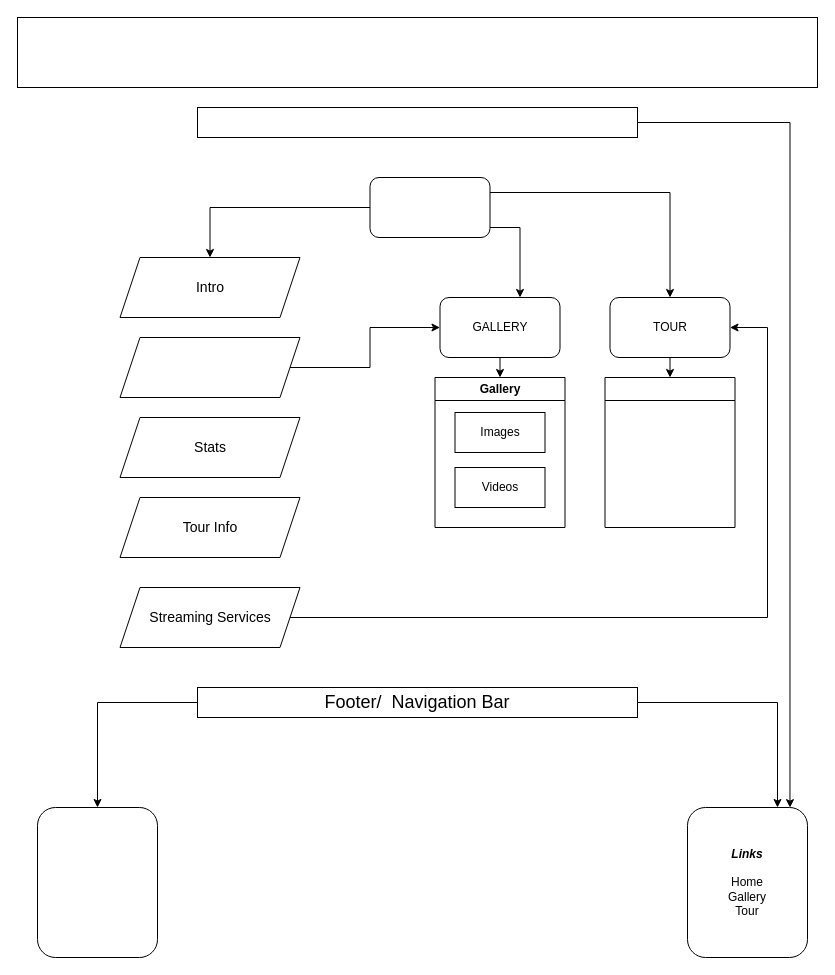
This 835x975 diagram has some shape labels left out. The shapes that lost their labels are listed below. From the top down, each one's box as (x1, y1, x2, y2) in pixels, then its label:
(16, 16, 818, 88): Mercury Music
(196, 106, 638, 138): Logo / Navigation Bar
(369, 176, 490, 238): HOME
(119, 336, 300, 398): New from Gallery / Newsletter
(604, 376, 735, 528): Tour dates
(36, 806, 158, 958): Links Facebook Instagram X (Twitter) TikTok
